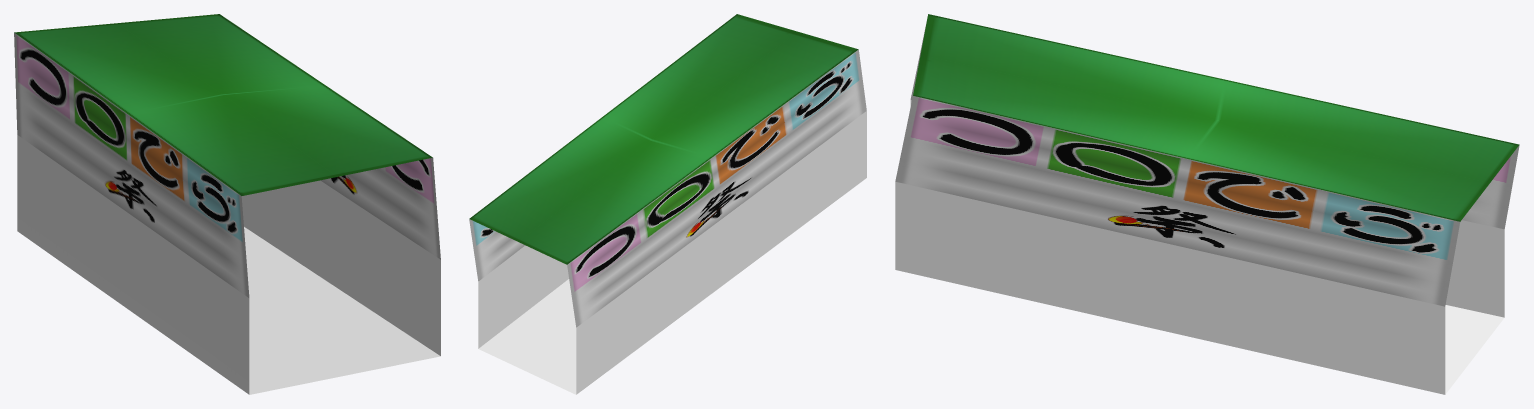
File: CourseWinter_Wall_L_13_1.fbx
3 renders of one model, left to right at view 1: azimuth 30°, elevation 25°; view 2: azimuth 150°, elevation 25°; view 3: azimuth 270°, elevation 25°, orthographic. The views are drawn at different scales.
Visible parts, largest first — view 1: polySurface532; view 2: polySurface532; view 3: polySurface532.
Part boxes in pixels (x1=…): polySurface532: x1=14, y1=14, x2=440, y2=394; polySurface532: x1=469, y1=14, x2=866, y2=394; polySurface532: x1=895, y1=14, x2=1519, y2=394.
Size of the model in its own units: 2.94 by 2.98 by 6.41.
1 material, 1 textured.
